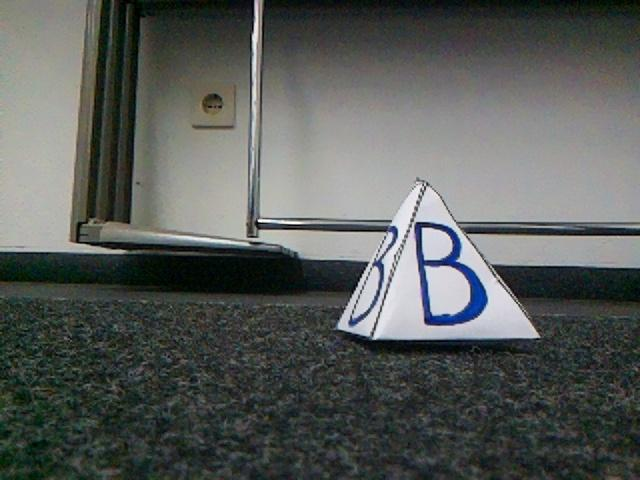B: (338, 182, 540, 344)
